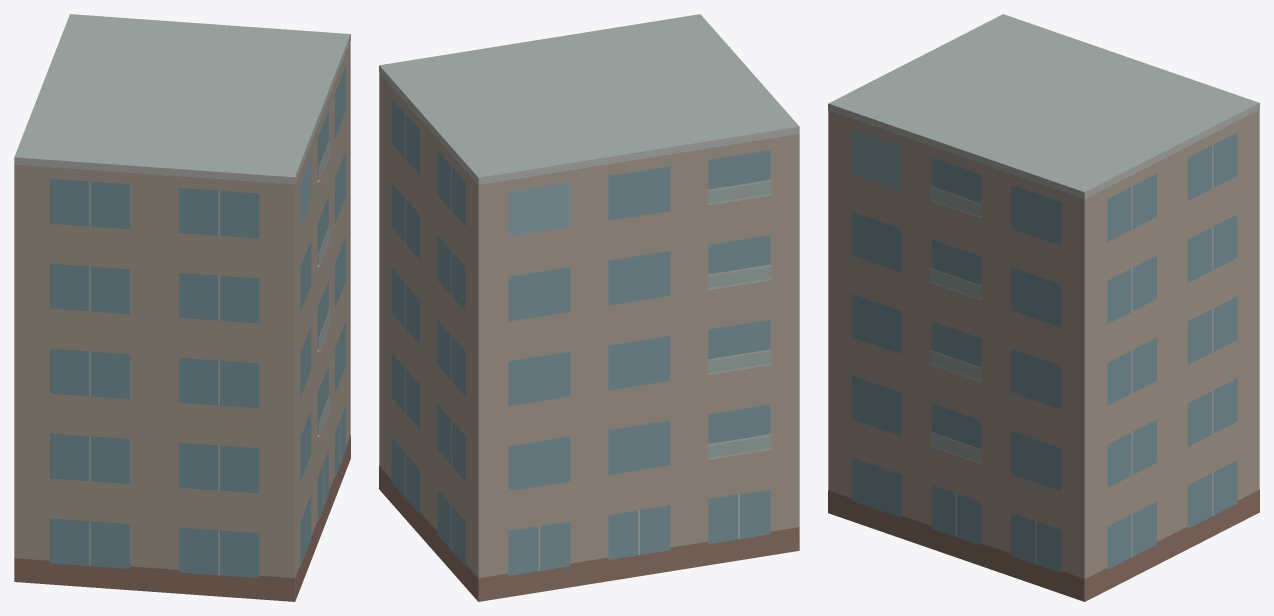
File: survey-upis-32669914.glb
3 views of the same model, side by side, from view 1: azimuth 30°, elevation 25°; view 2: azimuth 150°, elevation 25°; view 3: azimuth 270°, elevation 25° (orthographic). The views are drawn at different scales.
Visible parts, largest first — view 1: survey-upis-32669914.tmp; view 2: survey-upis-32669914.tmp; view 3: survey-upis-32669914.tmp.
Part boxes in pixels (x1,y1,x2,y2): survey-upis-32669914.tmp: [14, 14, 350, 601]; survey-upis-32669914.tmp: [379, 14, 799, 601]; survey-upis-32669914.tmp: [828, 14, 1259, 601].
Size of the model in its own units: 13.45 by 14.4 by 13.76.
